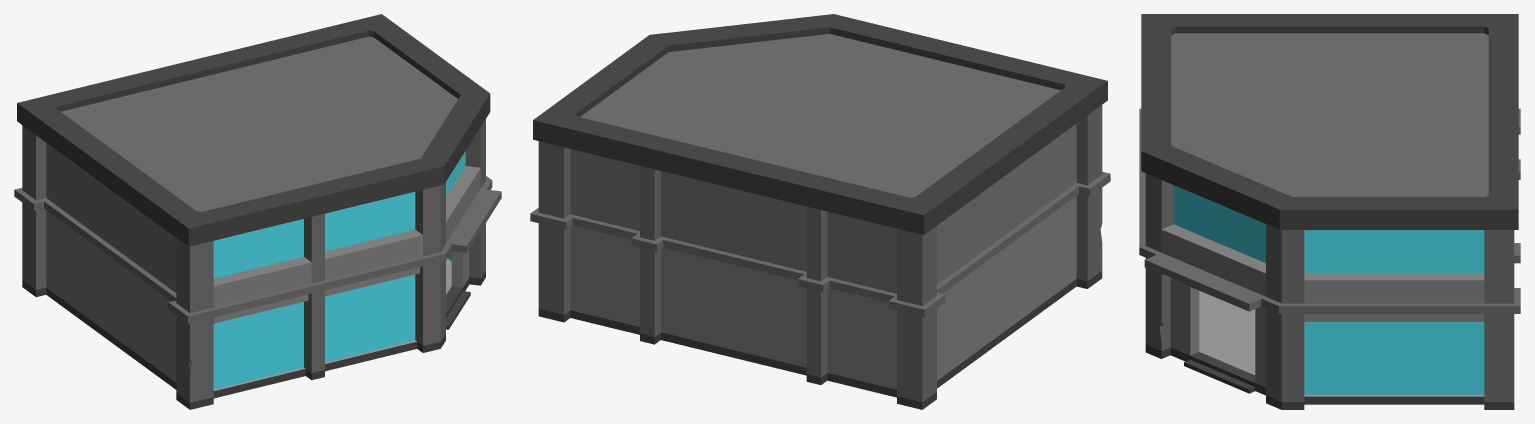
The model's file is SM_Buildings_Commercial_06.fbx.
The picture shows the model from 3 angles, left to right: view 1: azimuth 30°, elevation 25°; view 2: azimuth 150°, elevation 25°; view 3: azimuth 270°, elevation 25°; orthographic projection. The views are drawn at different scales.
Parts seen in each view (by area): view 1: SM_Buildings_Commercial_06; view 2: SM_Buildings_Commercial_06; view 3: SM_Buildings_Commercial_06.
Boxes of the visible parts, x1=… form: SM_Buildings_Commercial_06: x1=14, y1=14, x2=501, y2=409; SM_Buildings_Commercial_06: x1=530, y1=14, x2=1110, y2=409; SM_Buildings_Commercial_06: x1=1139, y1=14, x2=1520, y2=409.
Size of the model in its own units: 10.9 by 5.2 by 8.9.
